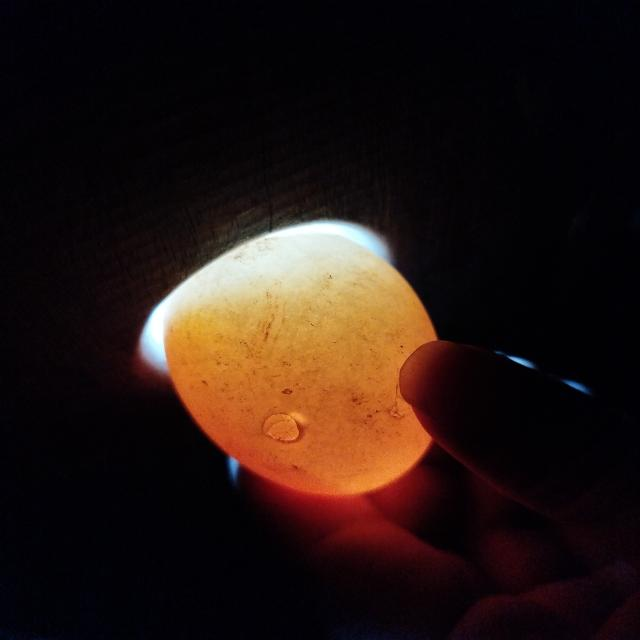Gema Quebrada: (179, 394, 352, 494)
Rachadura: (263, 414, 299, 441)
